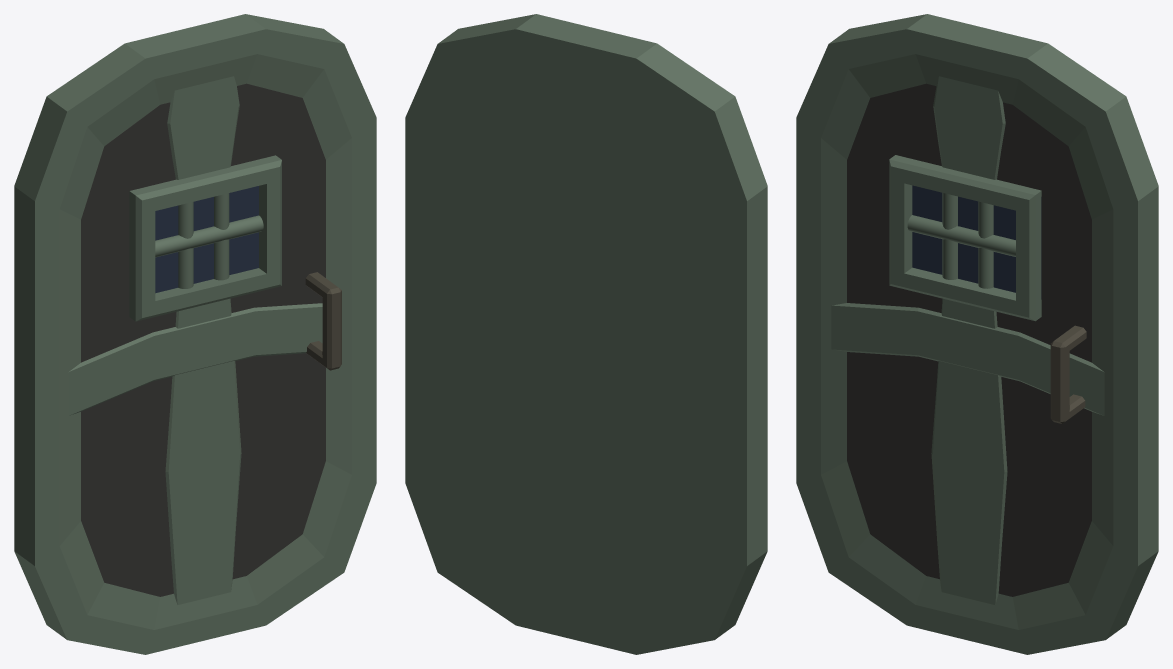
Rendered from Door_old.glb.
The picture shows the model from 3 angles, left to right: view 1: azimuth 30°, elevation 25°; view 2: azimuth 150°, elevation 25°; view 3: azimuth 330°, elevation 25°; orthographic projection.
Visible parts, largest first — view 1: Cube.004; view 2: Cube.004; view 3: Cube.004.
Boxes of the visible parts, x1,y1,x2,y2 form: Cube.004: [14, 14, 376, 654]; Cube.004: [405, 14, 767, 654]; Cube.004: [796, 14, 1158, 654].
Bounding box in the file's own units: 3 × 5 × 0.6288.
Materials: 1 (1 with a texture image).
